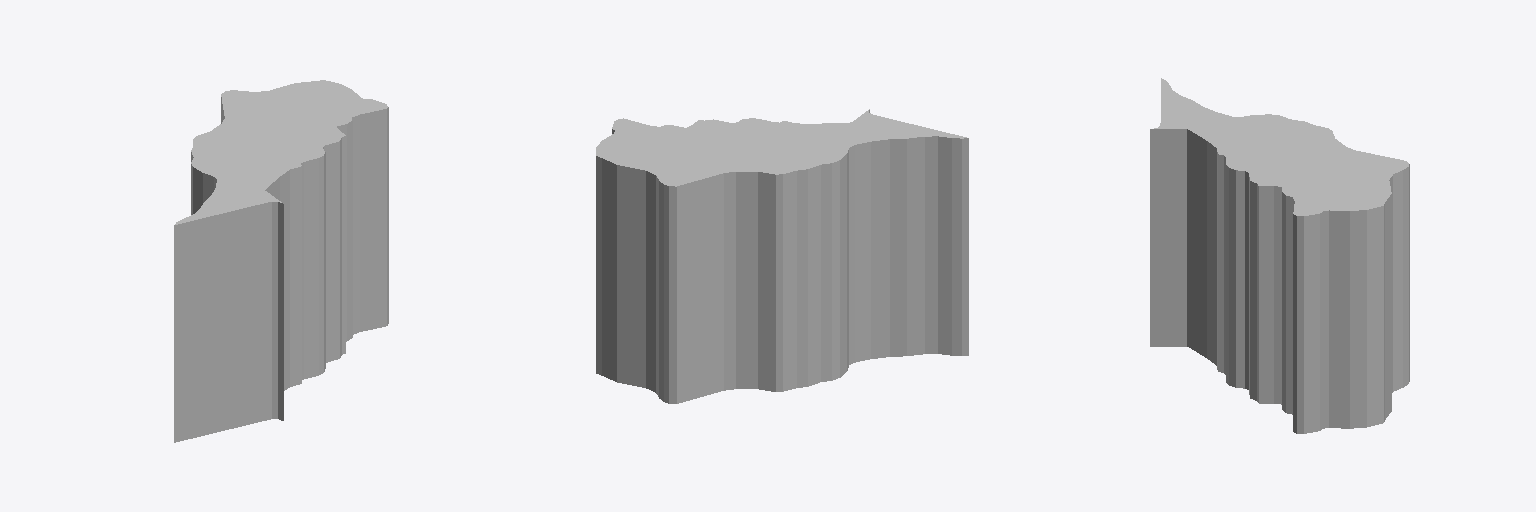
3 views of the same model, side by side, from view 1: azimuth 30°, elevation 25°; view 2: azimuth 150°, elevation 25°; view 3: azimuth 270°, elevation 25° (orthographic).
Parts seen in each view (by area): view 1: MO.002_CUCurve.1874; view 2: MO.002_CUCurve.1874; view 3: MO.002_CUCurve.1874.
Boxes of the visible parts, x1,y1,x2,y2 form: MO.002_CUCurve.1874: [174, 80, 388, 442]; MO.002_CUCurve.1874: [596, 109, 968, 403]; MO.002_CUCurve.1874: [1150, 78, 1409, 433].
Bounding box in the file's own units: 0.0682 × 0.05 × 0.0539.